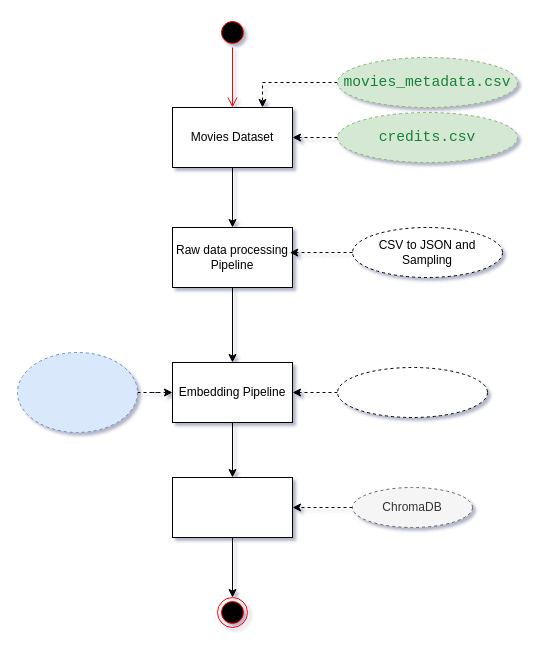
This 541x651 diagram has some shape labels left out. The shapes that lost their labels are listed below. From the top down, each one's centre as x and y in pixels, then its label:
(77,392): text-embedding-ada-002
(412,392): Plot, Genre, Release, Revenue
(232,507): Store Embeddings in Vector Store
